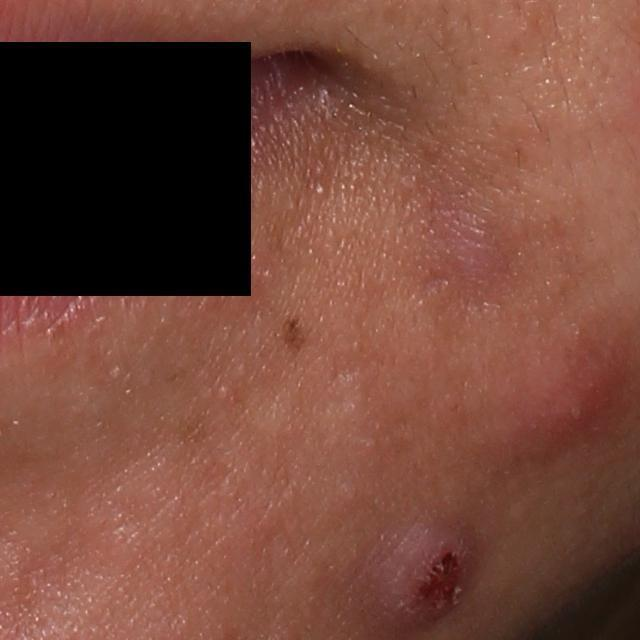nevus: (279, 310, 309, 359)
papule: (442, 210, 501, 289)
